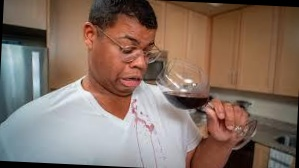wine: (142, 118, 163, 137), (152, 139, 165, 168), (134, 137, 144, 166), (132, 101, 149, 117), (133, 115, 141, 135)
